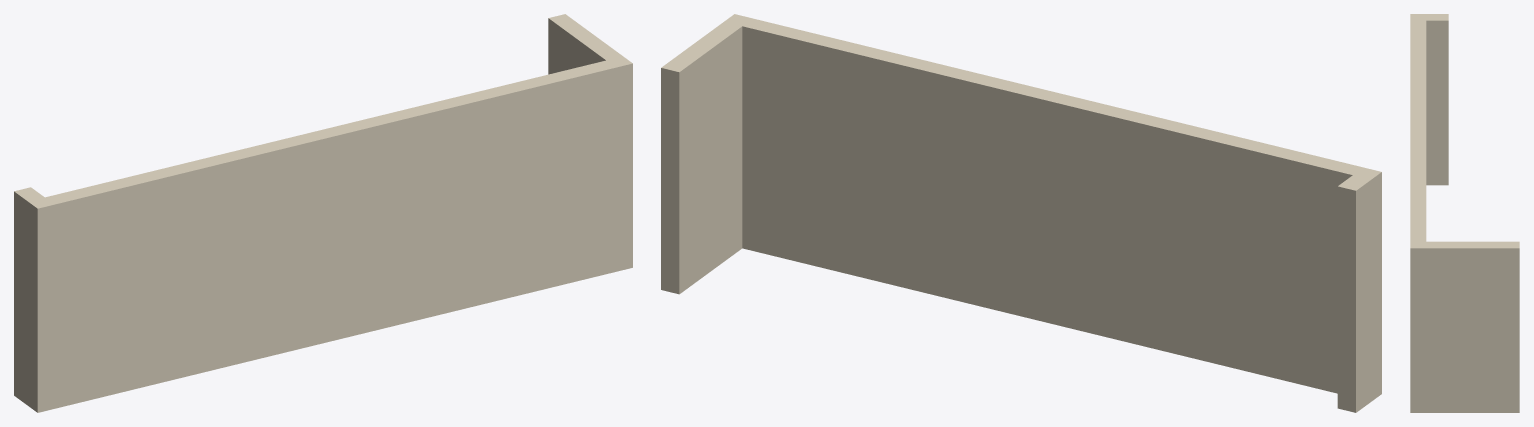
3 views of the same model, side by side, from view 1: azimuth 30°, elevation 25°; view 2: azimuth 150°, elevation 25°; view 3: azimuth 270°, elevation 25° (orthographic). The views are drawn at different scales.
Visible parts, largest first — view 1: B-GF-WALL-001; view 2: B-GF-WALL-001; view 3: B-GF-WALL-001.
Part boxes in pixels (bbox=[...]): B-GF-WALL-001: bbox=[14, 14, 632, 412]; B-GF-WALL-001: bbox=[661, 14, 1381, 412]; B-GF-WALL-001: bbox=[1410, 14, 1519, 412].
Size of the model in its own units: 7.38 by 2.42 by 1.45.
